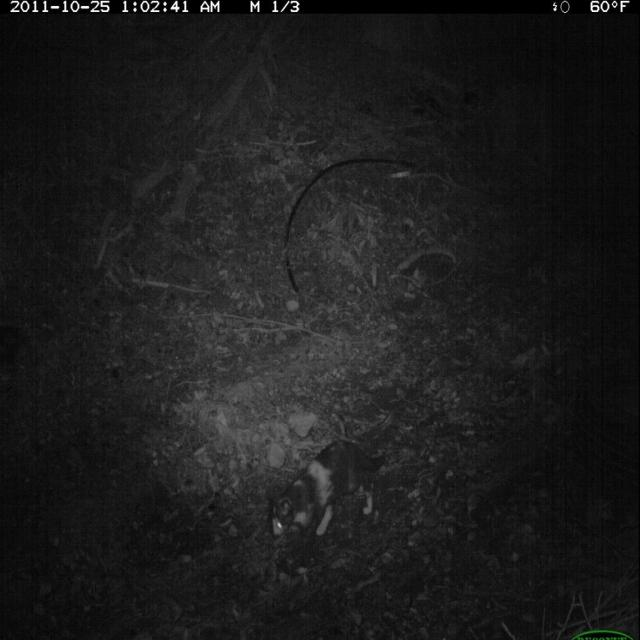cat: (257, 425, 397, 561)
